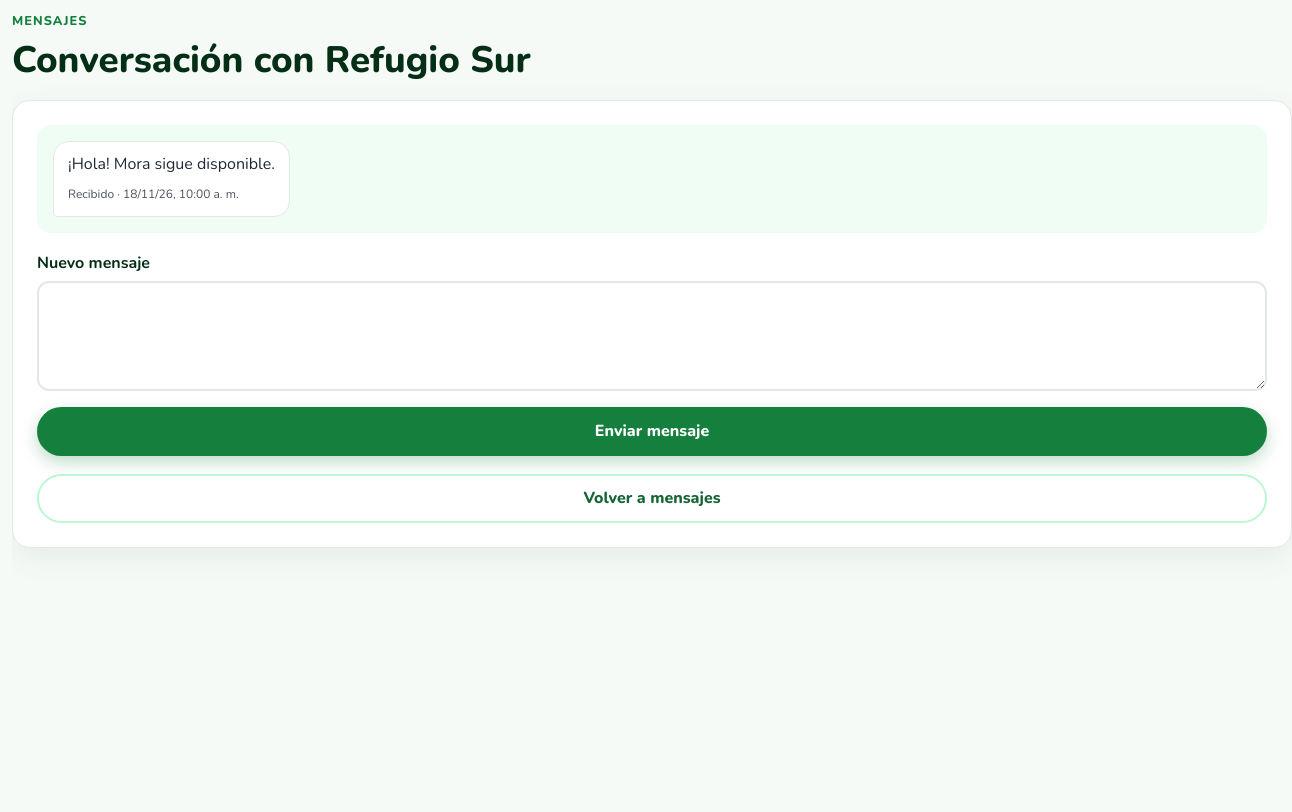
Mensajes › abre el hilo, marca como leídos y envía una respuesta con la mascota
The image size is (1292, 812).
Expected: the heading "Conversación con Refugio Sur" is shown, [12,38,531,82]
Expected: the text "¡Hola! Mora sigue disponible." is shown, [68,152,275,177]
In the text box labelled "Nuevo mensaje": coordinates (652, 336) [37,281,1267,391], type "  Quiero conocerla "
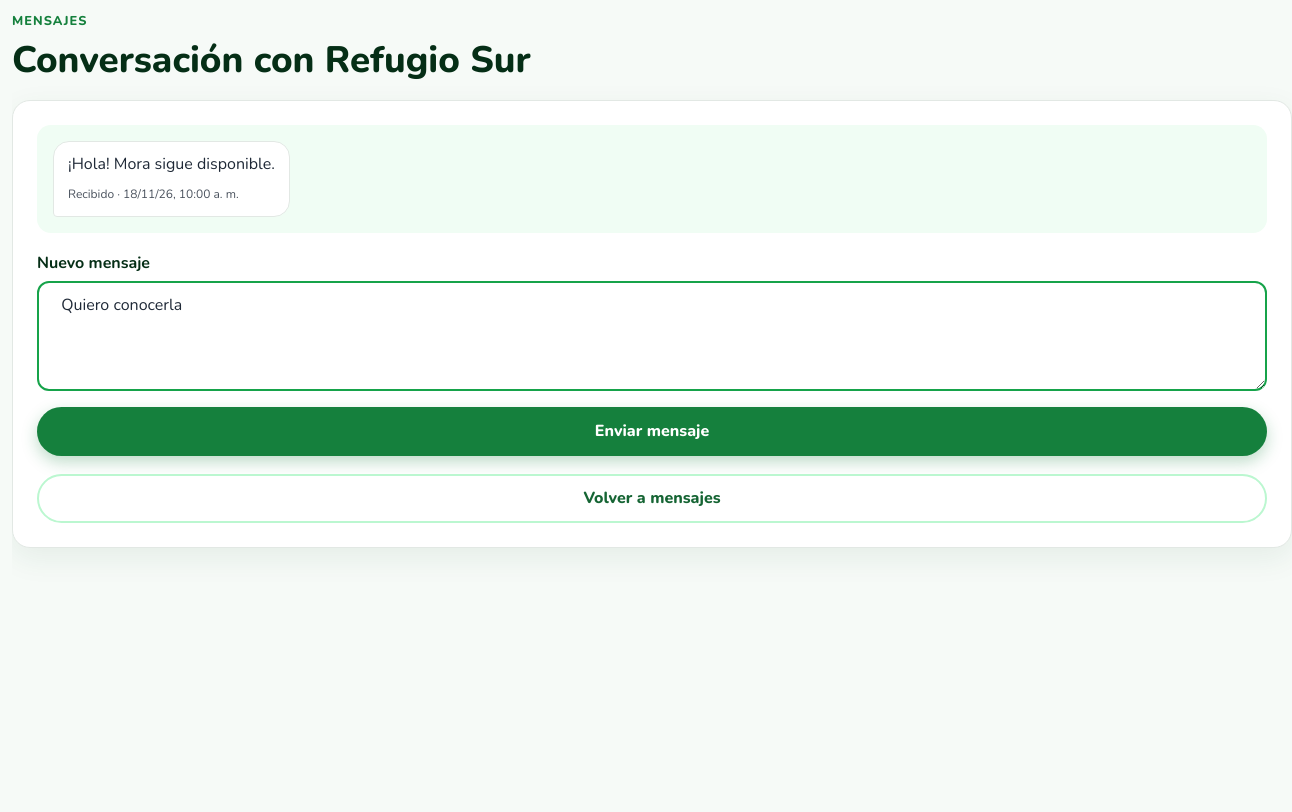
Click the button "Enviar mensaje": coordinates (652, 432) [37,407,1267,456]
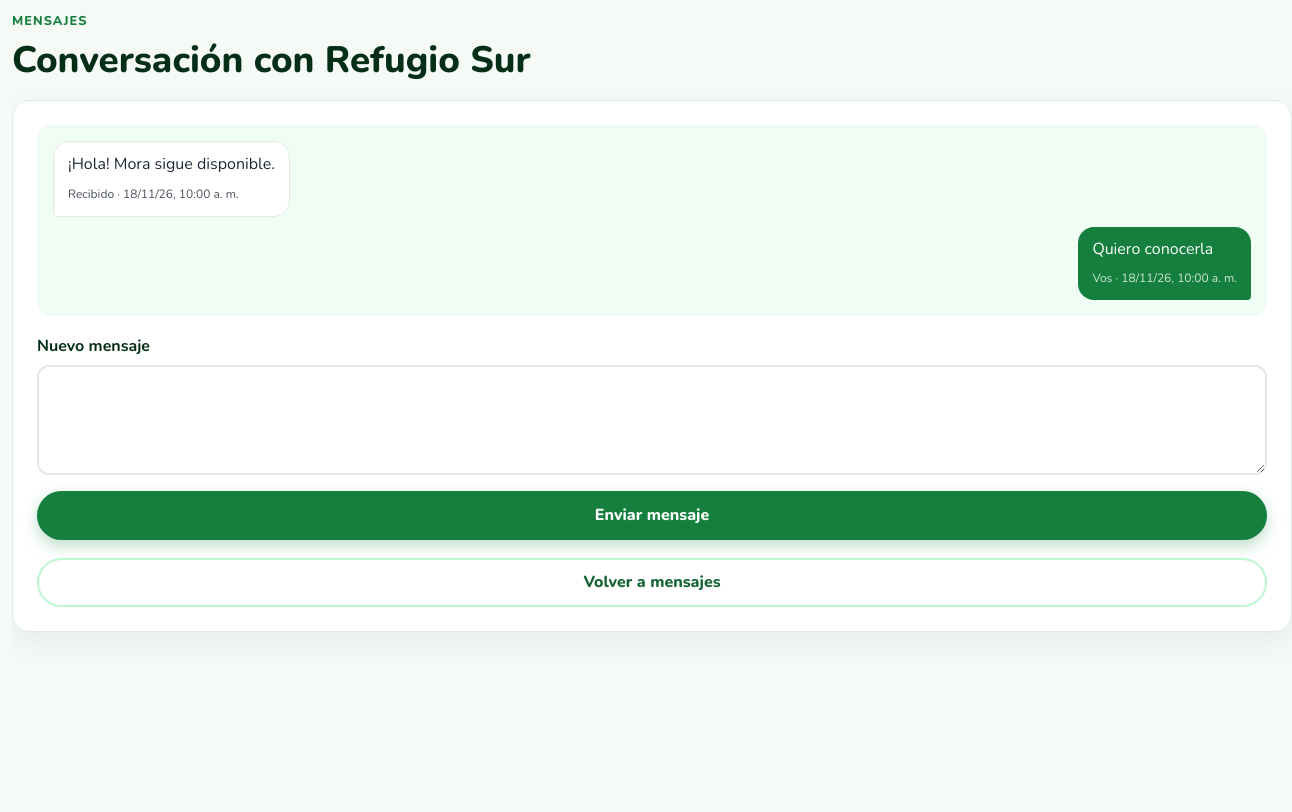
Expected: the text "Quiero conocerla" is shown, [1092,238,1213,260]
Expected: the text box labelled "Nuevo mensaje" is empty, [37,365,1267,475]
